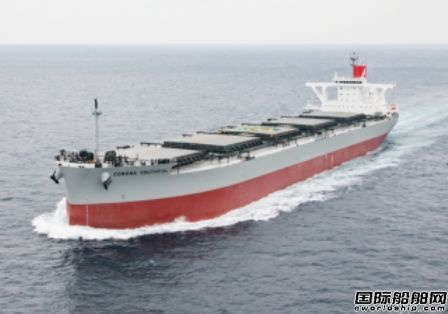Cargoship: (40, 53, 402, 232)
